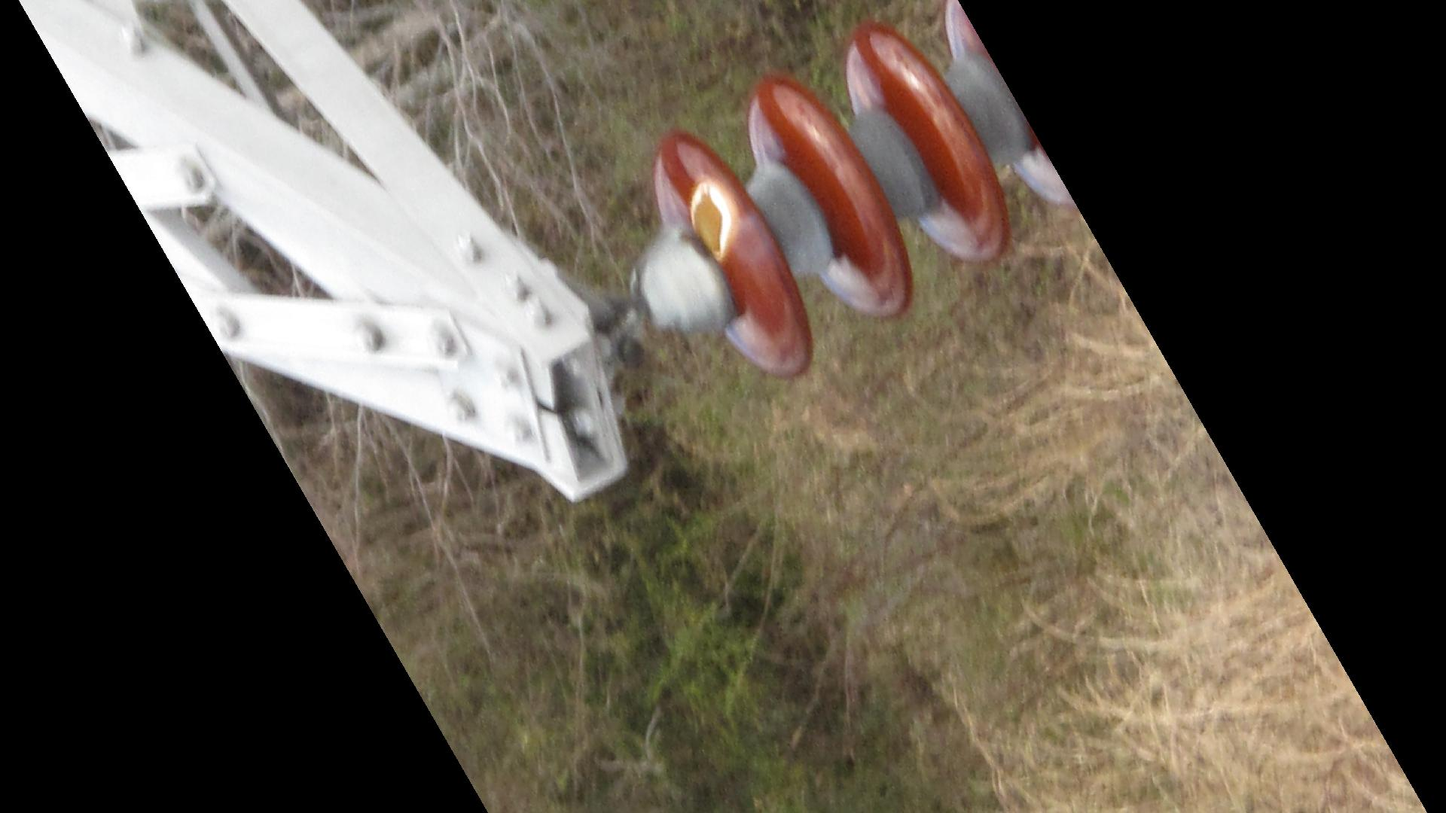insulator: (648, 1, 1075, 383)
insulator_flashover: (685, 178, 737, 262)
